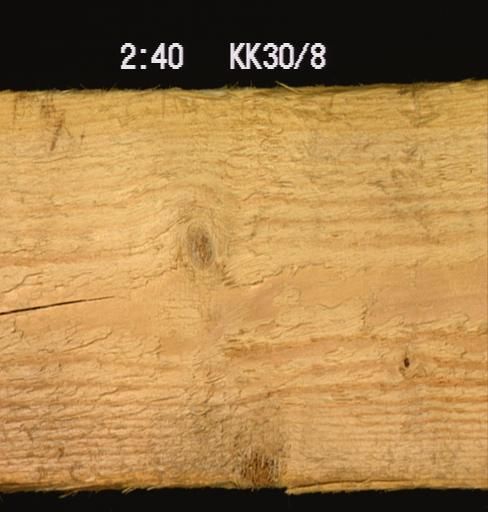edge_knot: (237, 431, 295, 492)
small_knot: (397, 350, 422, 369)
sound_knot: (177, 215, 237, 281)
split: (0, 290, 121, 319), (304, 467, 419, 486)
